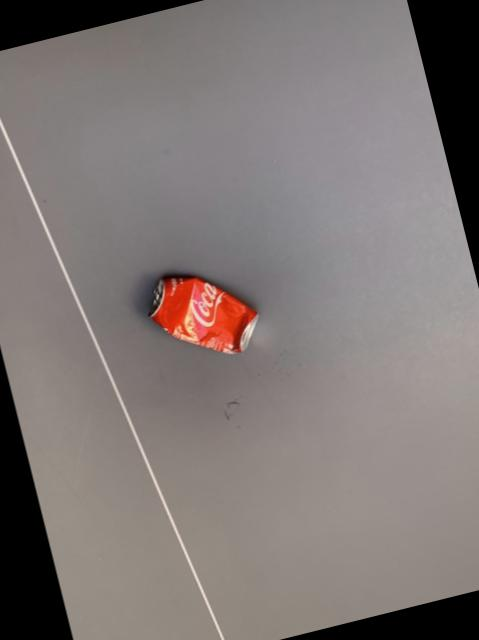metal: (146, 275, 255, 351)
